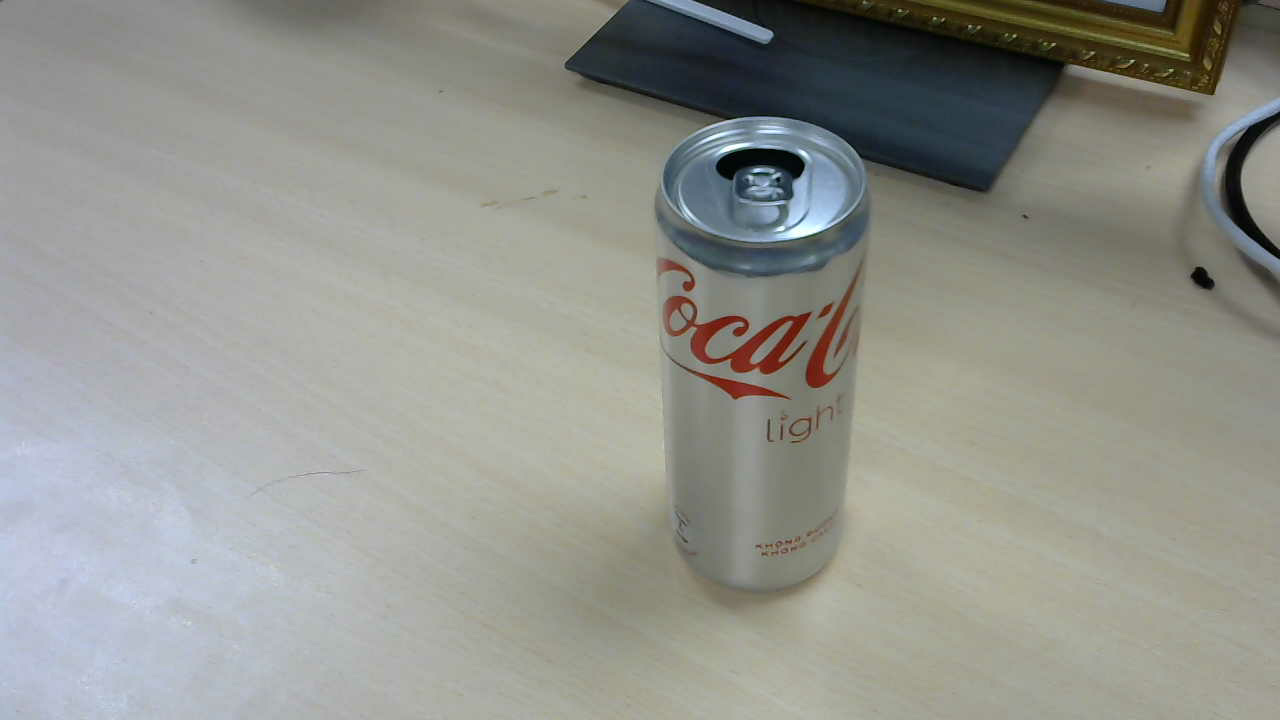Coca_Cola: (656, 119, 881, 613)
